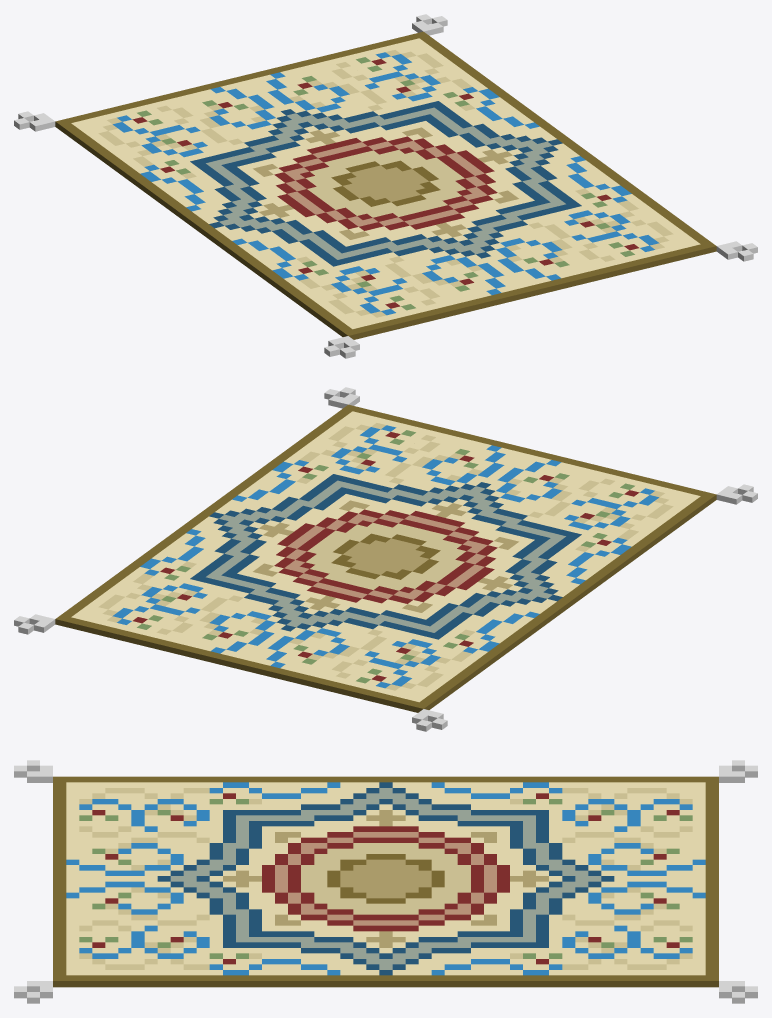
The model's file is CSG1N2S5.glb.
3 renders of one model, top to bottom at view 1: azimuth 30°, elevation 25°; view 2: azimuth 150°, elevation 25°; view 3: azimuth 270°, elevation 25°, orthographic. The views are drawn at different scales.
Parts seen in each view (by area): view 1: Curve.657; view 2: Curve.657; view 3: Curve.657.
Boxes of the visible parts, box(x1,y1,x2,y2) form: Curve.657: box(14, 14, 757, 358); Curve.657: box(14, 387, 757, 731); Curve.657: box(14, 760, 757, 1003).
Size of the model in its own units: 0.833 by 0.0101 by 1.1.
